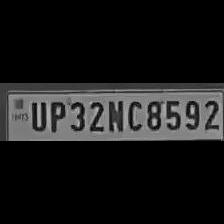2: (86, 97, 106, 132), (200, 97, 220, 131)
3: (66, 98, 86, 132)
5: (162, 96, 180, 130)
8: (144, 96, 164, 130)
9: (180, 96, 200, 130)
C: (124, 97, 144, 131)
N: (104, 97, 124, 133)
P: (46, 97, 66, 133)
U: (27, 98, 46, 132)
